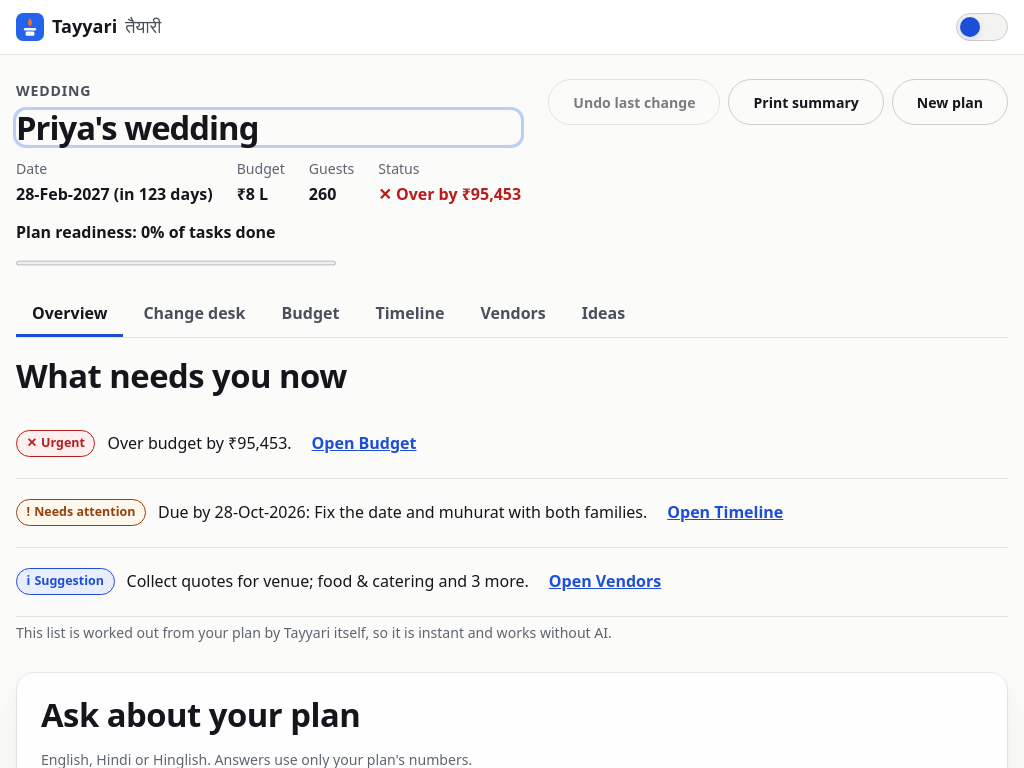
Test: plan view and tabs › links insights to their tab and prints, resets and switches theme
Click the button "Open Budget": click(364, 444) [304, 422, 424, 466]
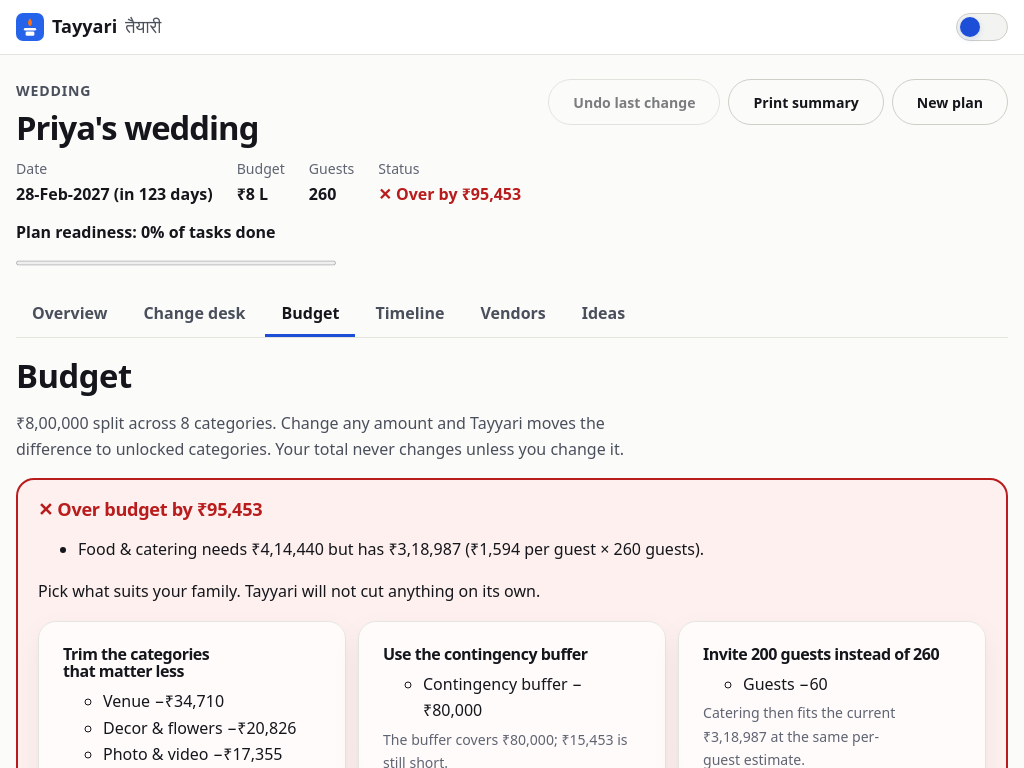
Check: the tab "Budget" is selected, box [266, 292, 355, 337]
Click the button "Print summary": click(806, 102) [728, 79, 884, 125]
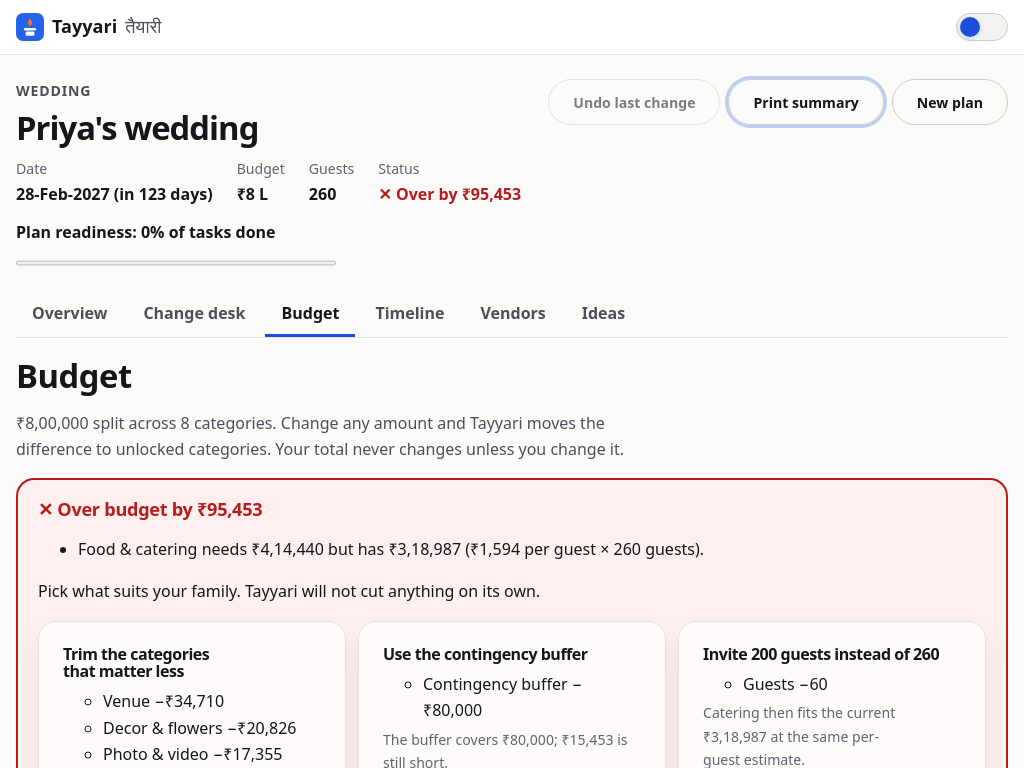
Click the button named "Switch to dark theme": click(982, 27) [956, 13, 1008, 41]
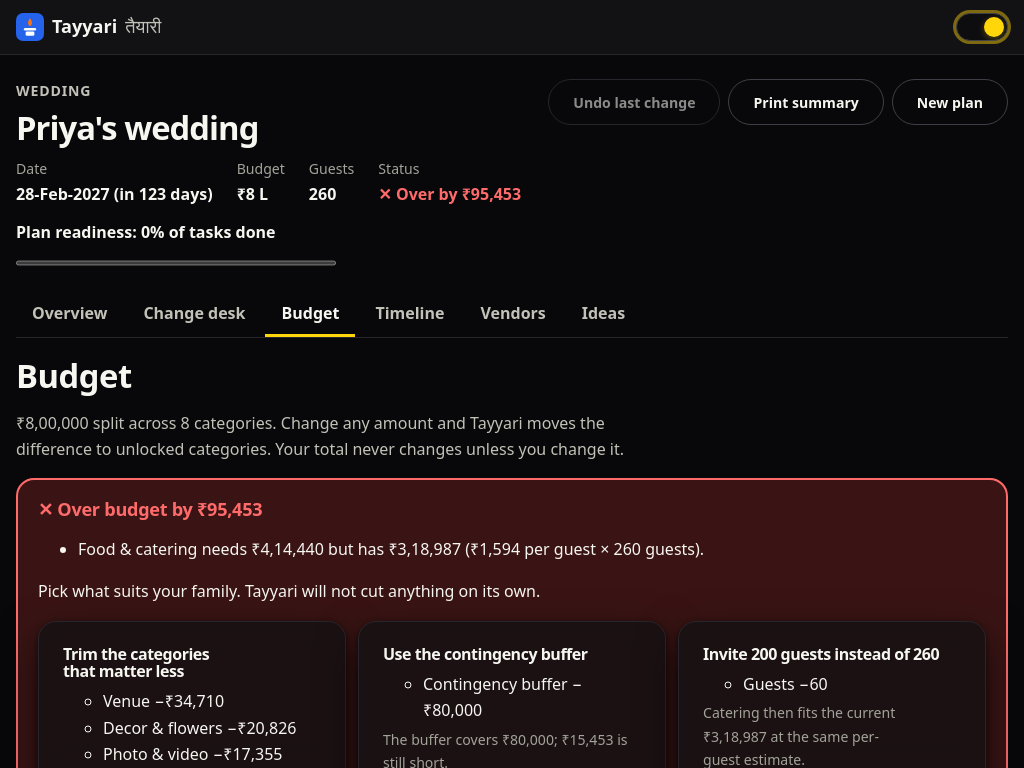
Click the button named "Switch to light theme": click(982, 27) [956, 13, 1008, 41]
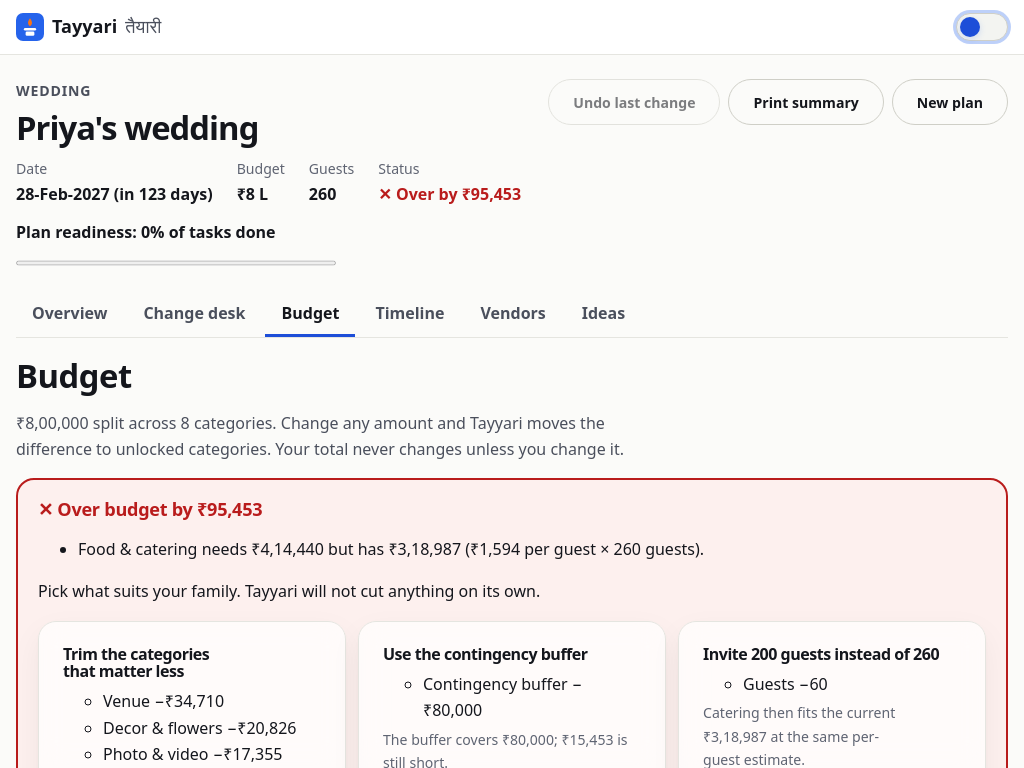
Click the button "New plan": click(950, 102) [892, 79, 1008, 125]
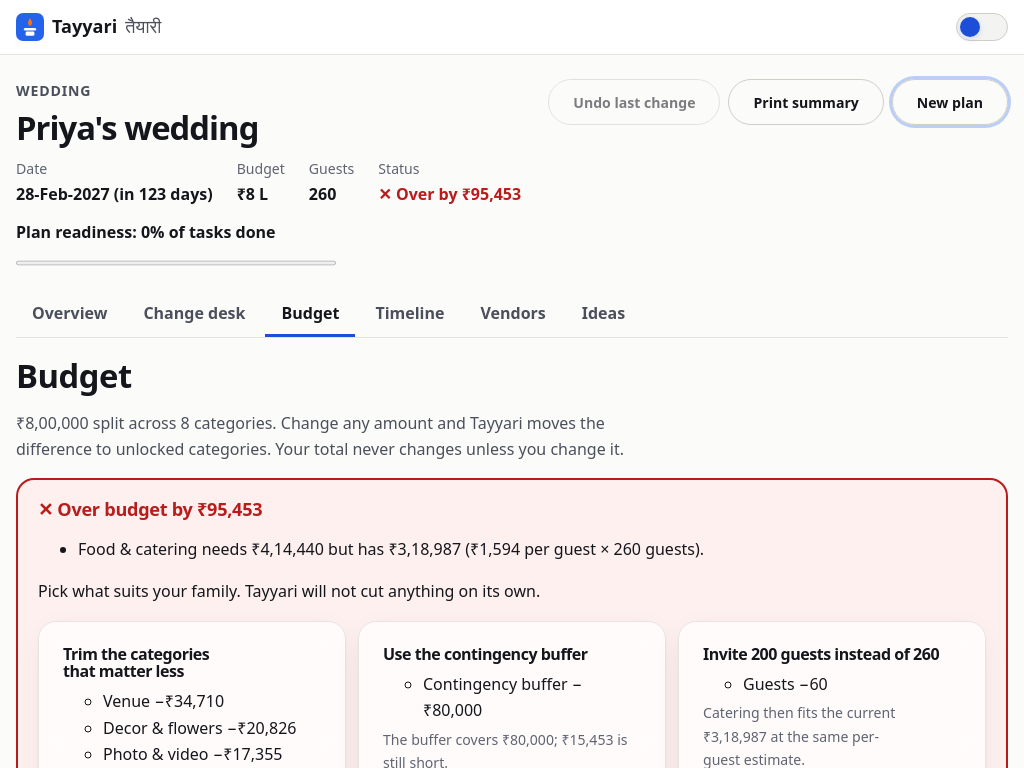
Check: the heading "Priya's wedding" is shown, box [16, 105, 258, 150]
Click the button "New plan": click(950, 102) [892, 79, 1008, 125]
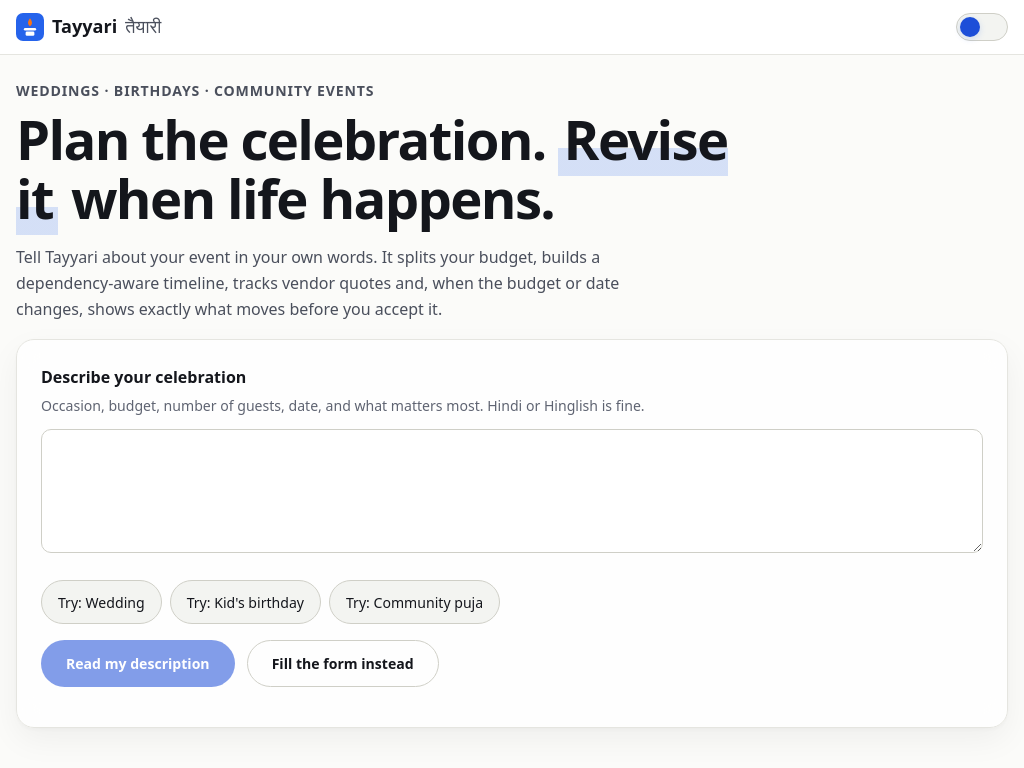
Check: the button "Read my description" is shown, box [41, 640, 235, 687]
